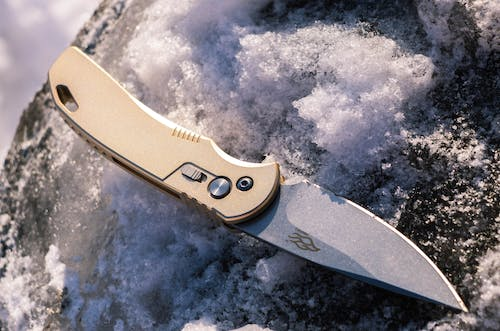knife: (49, 45, 471, 314)
